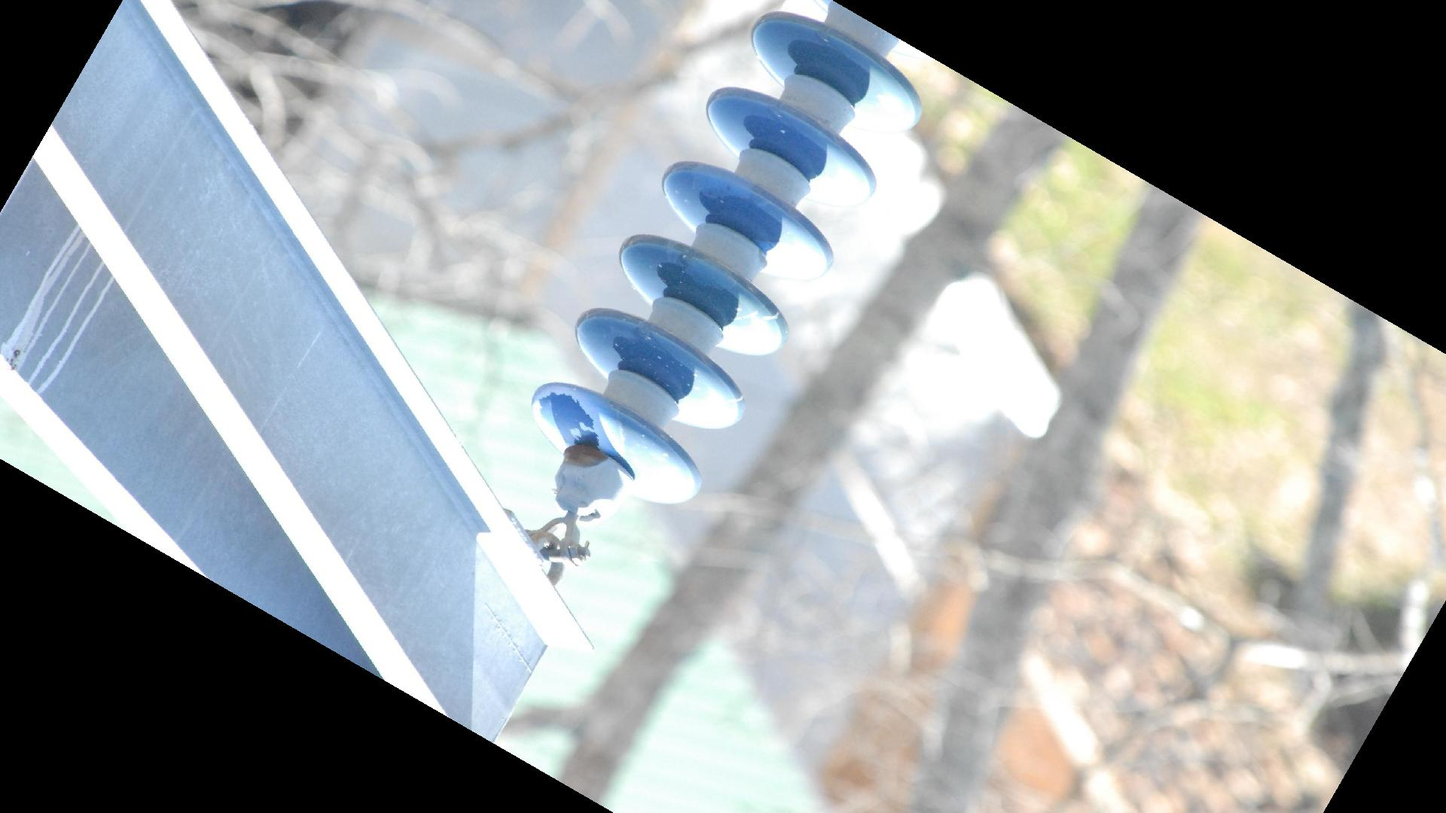insulator: (529, 1, 930, 513)
insulator_flashover: (532, 388, 601, 451)
